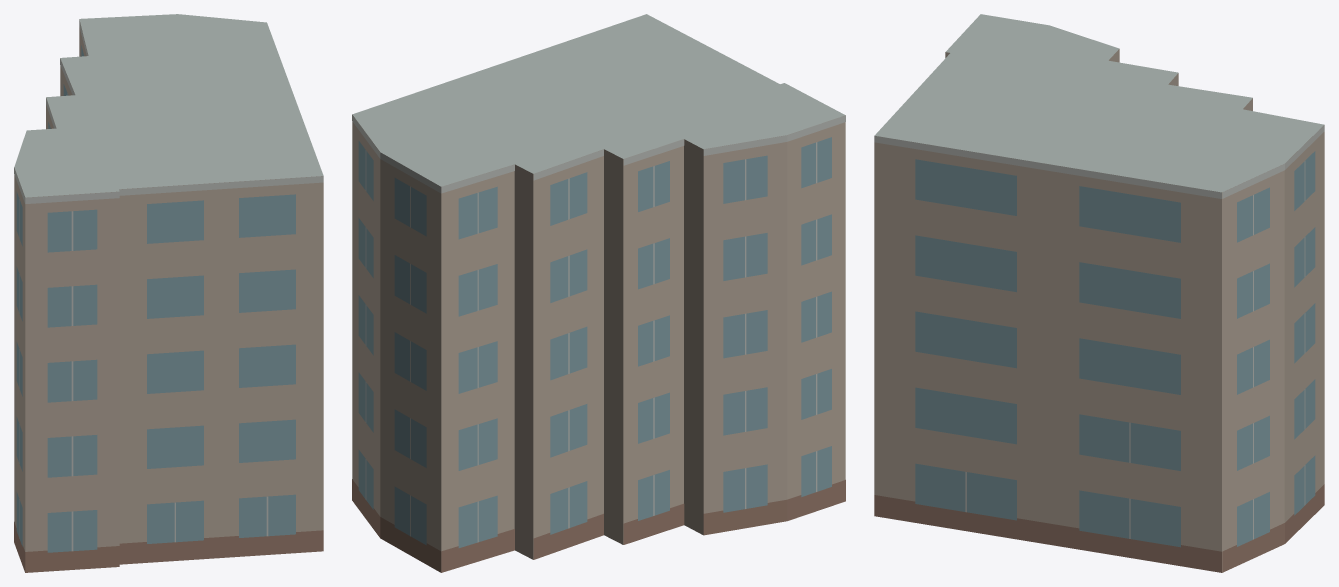
Rendered from survey-upis-32893456.glb.
The picture shows the model from 3 angles, left to right: view 1: azimuth 30°, elevation 25°; view 2: azimuth 150°, elevation 25°; view 3: azimuth 270°, elevation 25°; orthographic projection. The views are drawn at different scales.
Visible parts, largest first — view 1: survey-upis-32893456.tmp; view 2: survey-upis-32893456.tmp; view 3: survey-upis-32893456.tmp.
Boxes of the visible parts, bbox=[...] form: survey-upis-32893456.tmp: bbox=[14, 14, 323, 572]; survey-upis-32893456.tmp: bbox=[352, 14, 845, 572]; survey-upis-32893456.tmp: bbox=[874, 14, 1324, 572].
Bounding box in the file's own units: 13.99 × 13.9 × 14.92.
